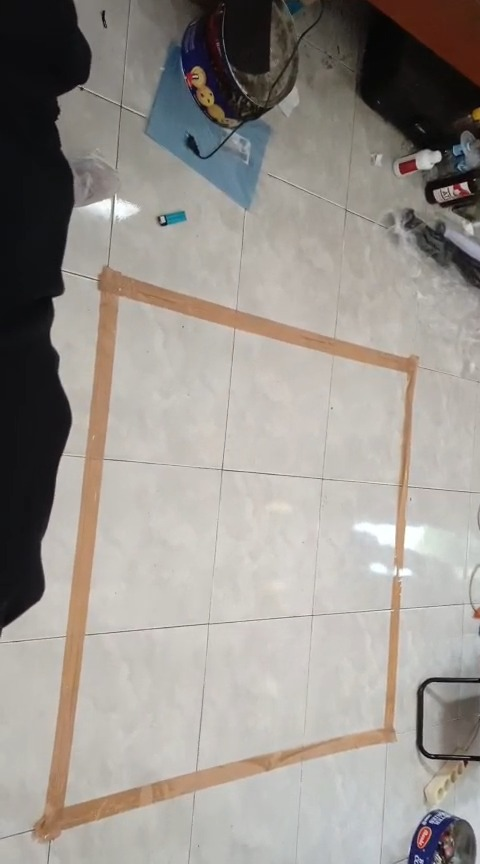floor marking: (34, 267, 417, 839)
